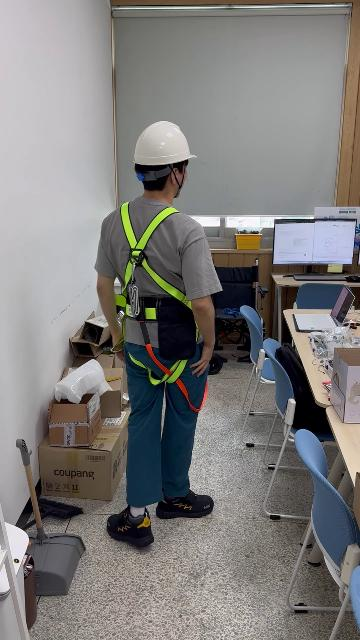helmet_worn: (132, 119, 199, 166)
shoe_worn: (107, 506, 154, 547), (157, 489, 212, 518)
vest_worn: (116, 208, 209, 393)
